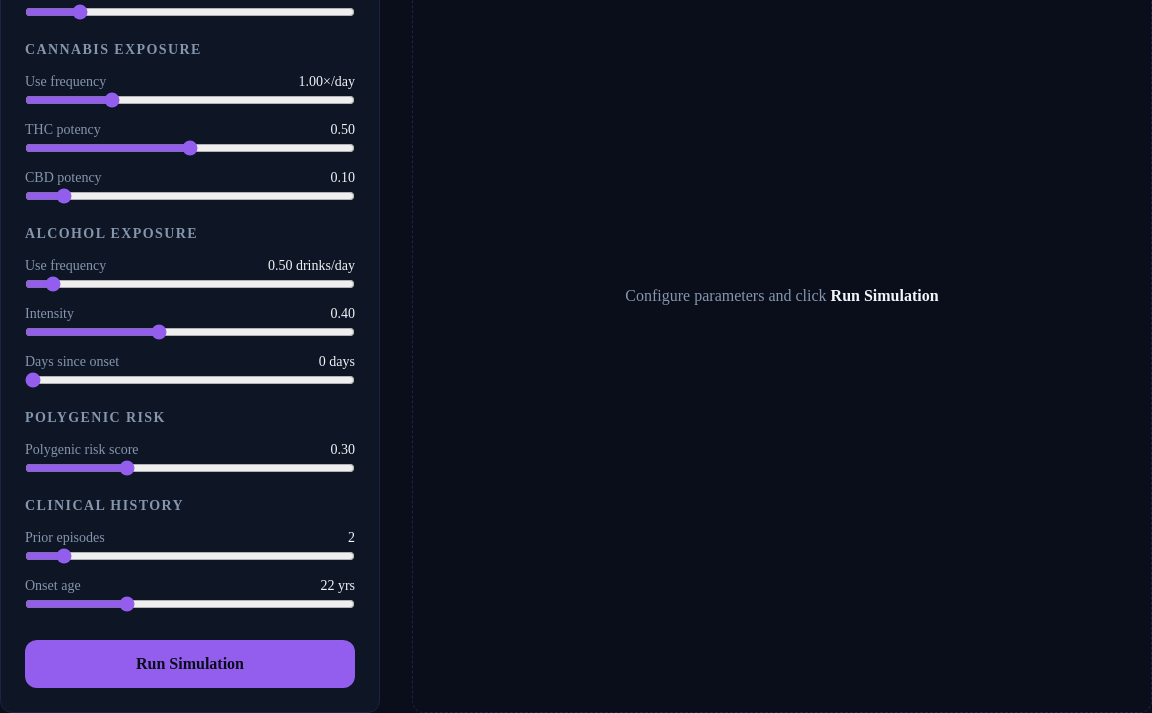
Scenario: SimulatorClient › shows results panel after simulation completes
(page scrolled)
Click the button "Run Simulation". click: (190, 664)
box: [25,640,355,688]
(page scrolled)
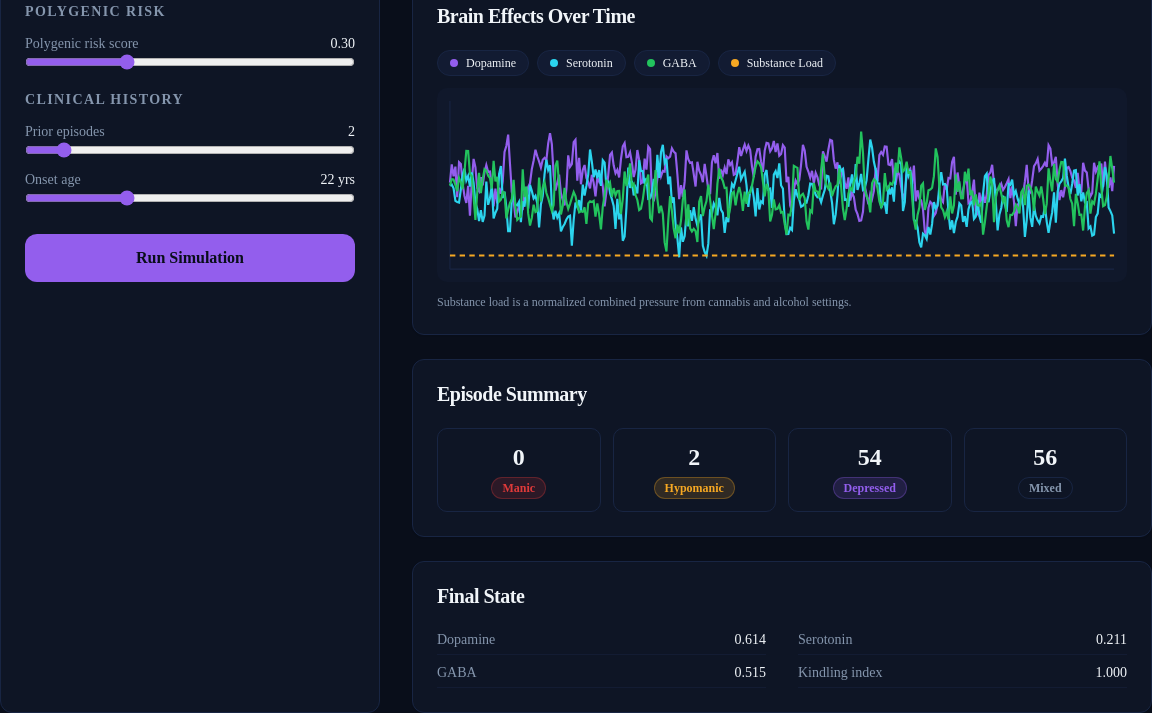
Now the heading "Episode Summary" is shown, box [437,383,587,405]
Now the heading "Final State" is shown, box [437,585,524,607]
